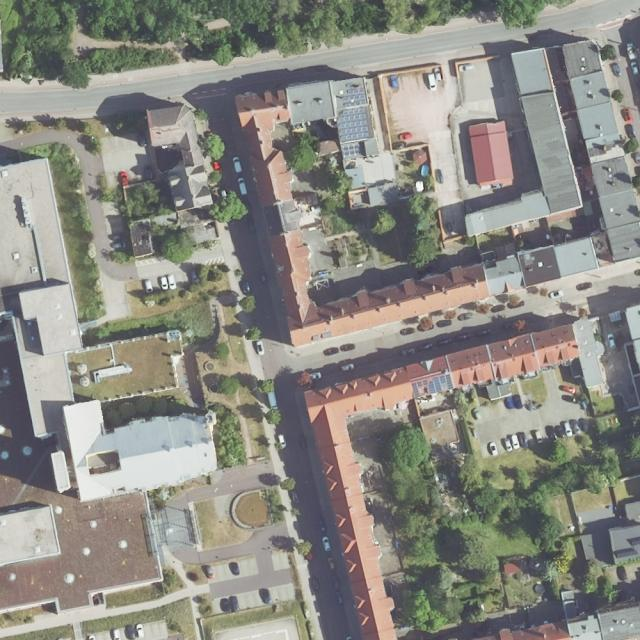PV: (412, 373, 453, 398), (339, 107, 369, 141), (342, 83, 367, 108), (343, 144, 363, 156)
